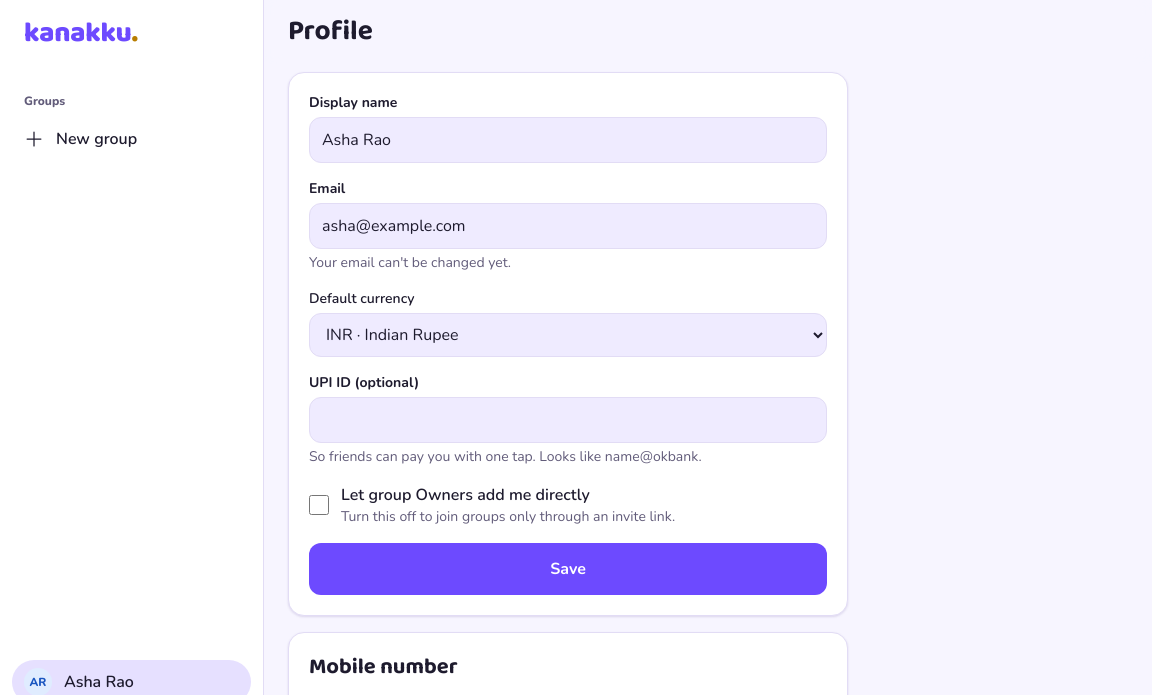
Test case: who can add me directly › shows the stored invite-only choice and switches back to allow
This screenshot has width=1152, height=695.
Click the checkbox labelled "Let group Owners add me directly" at [319, 505], box [309,495,329,515]
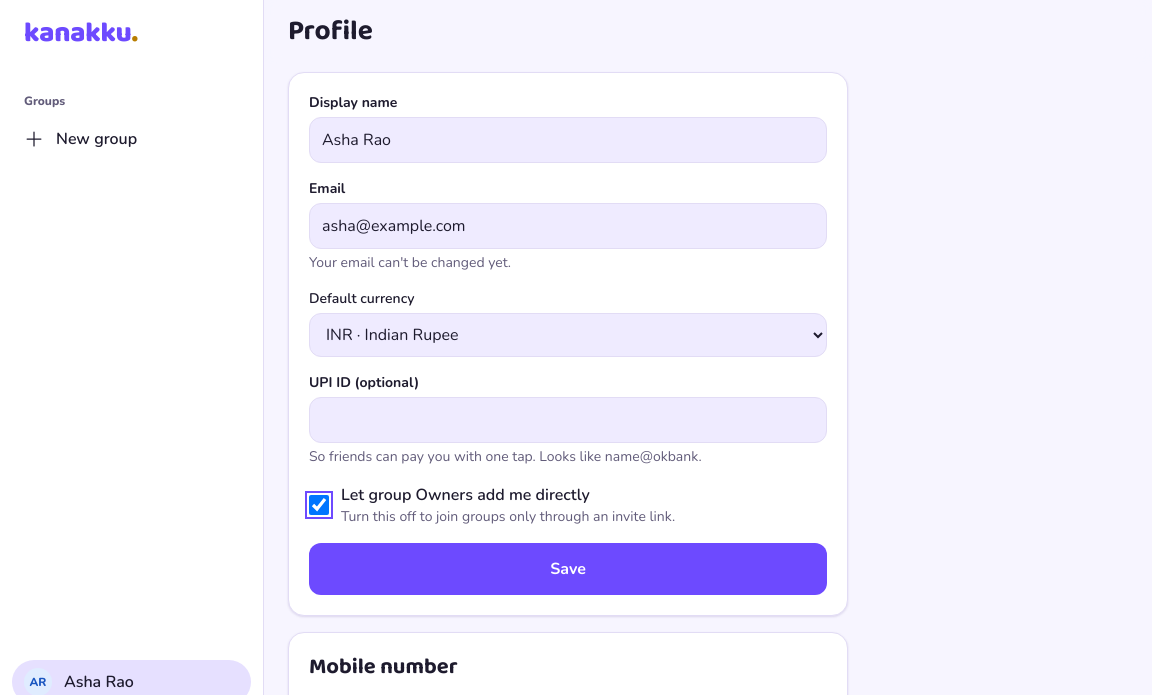
Click the button "Save" at [568, 569], box [309,543,827,595]
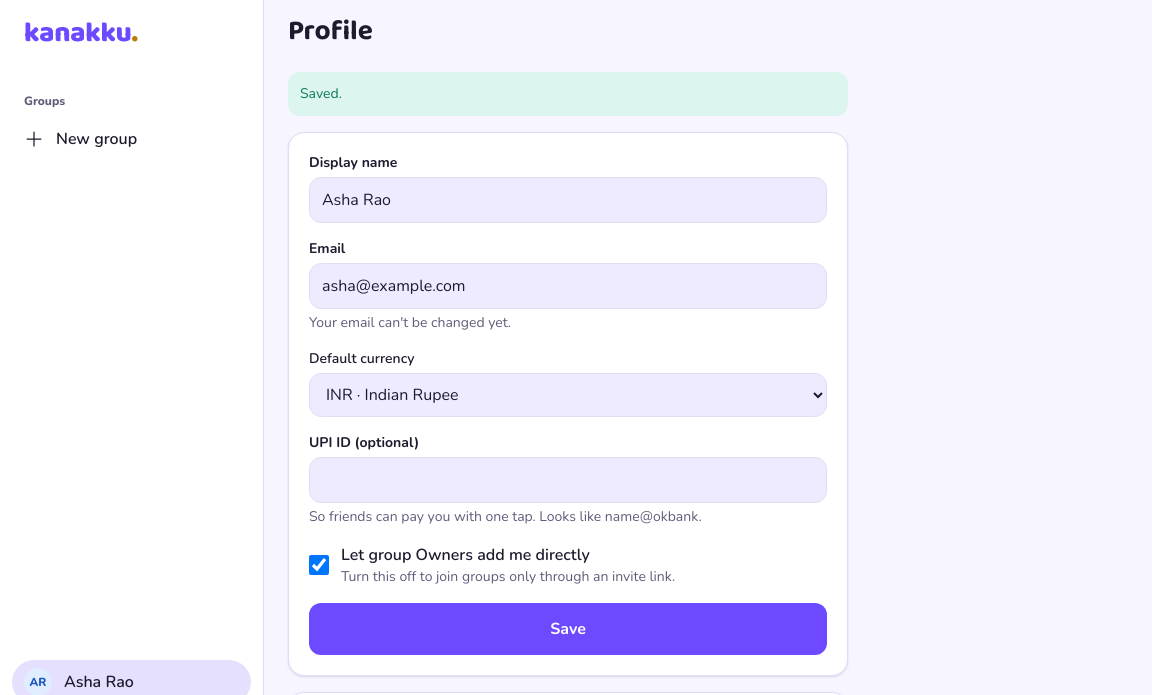
Expected: the message "Saved." is shown, [288,72,848,116]
